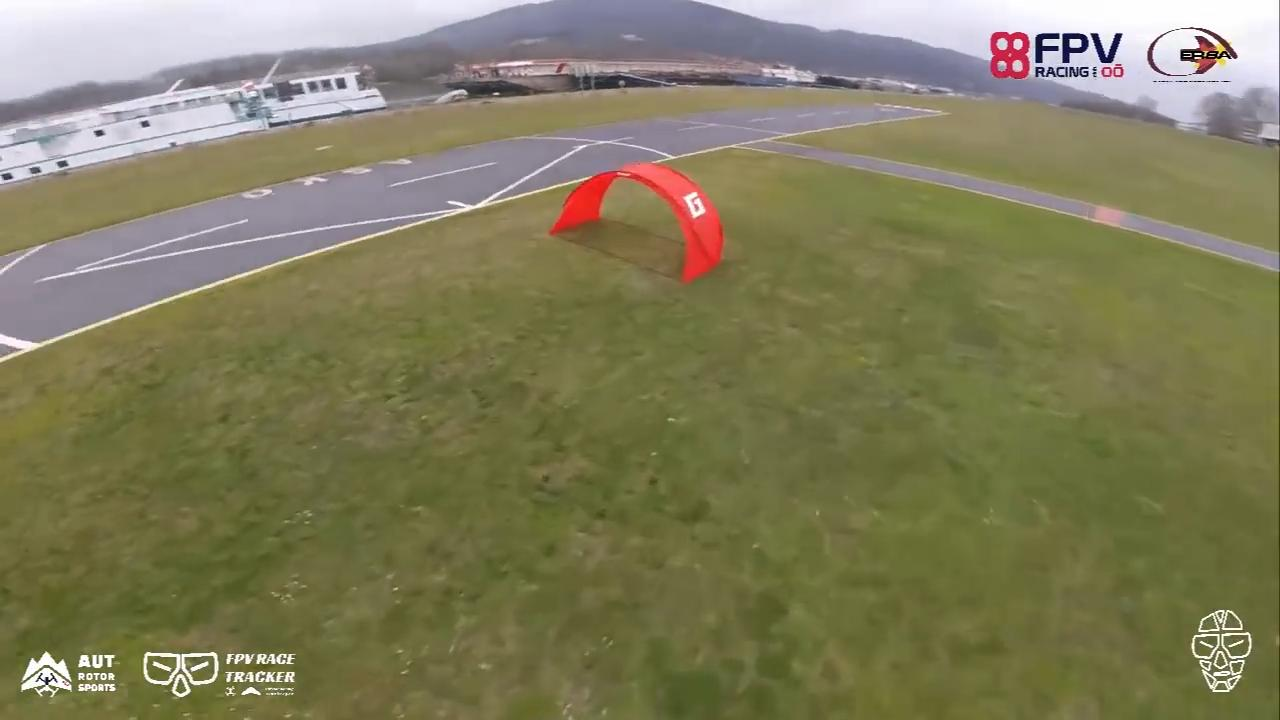gate: (547, 162, 726, 284)
